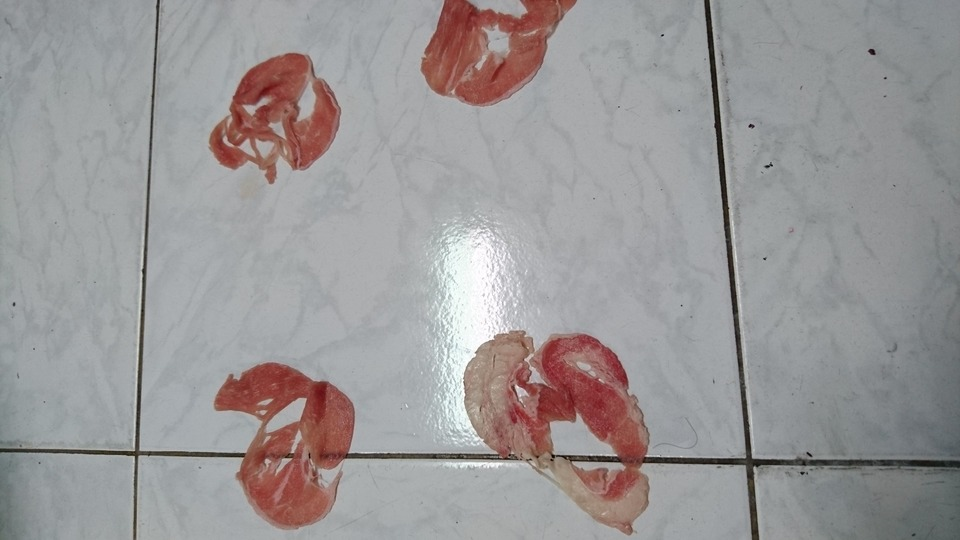restructured meat: (460, 322, 651, 540), (209, 358, 357, 532), (199, 50, 340, 185), (421, 1, 574, 112)
